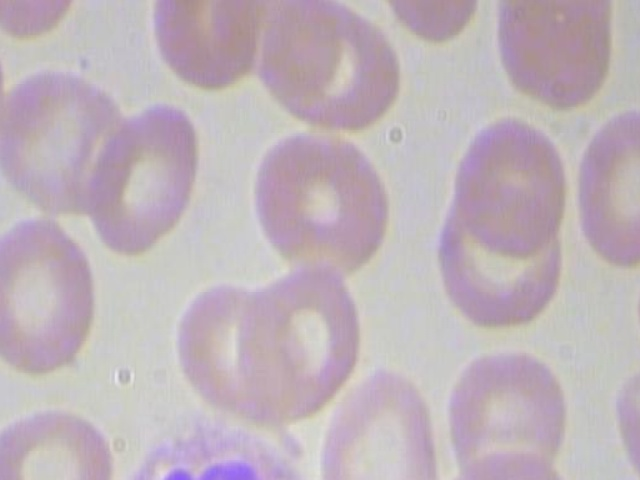RBC: (237, 119, 398, 289), (82, 95, 214, 262), (435, 180, 564, 341), (447, 336, 577, 480), (449, 110, 572, 257), (309, 359, 446, 480), (0, 213, 99, 380), (495, 0, 613, 120), (572, 96, 640, 274), (144, 0, 262, 92), (0, 405, 113, 480), (429, 442, 574, 480), (384, 0, 481, 43), (0, 0, 87, 46), (0, 18, 21, 193)
WBC: (77, 413, 348, 480)
